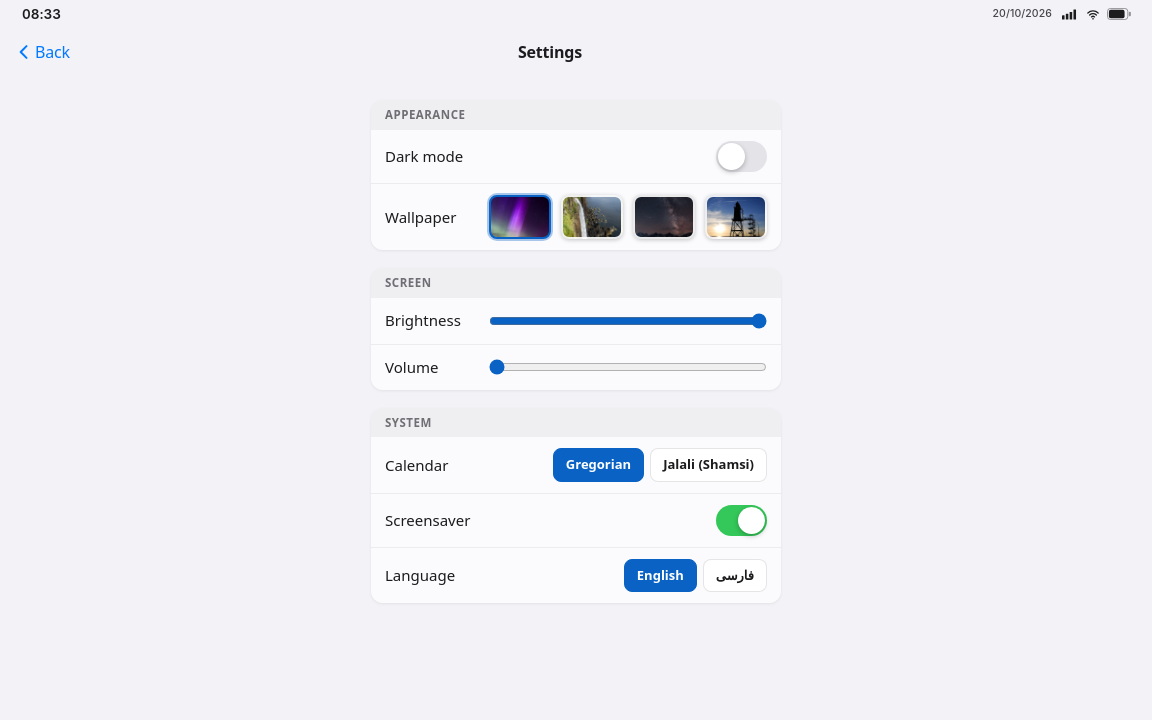
Test case: SettingsApp (mobile) › switches language: text goes RTL, the layout stays put
Click the button with test id "mobile-settings-lang-fa": (735,576) [703,559,767,592]
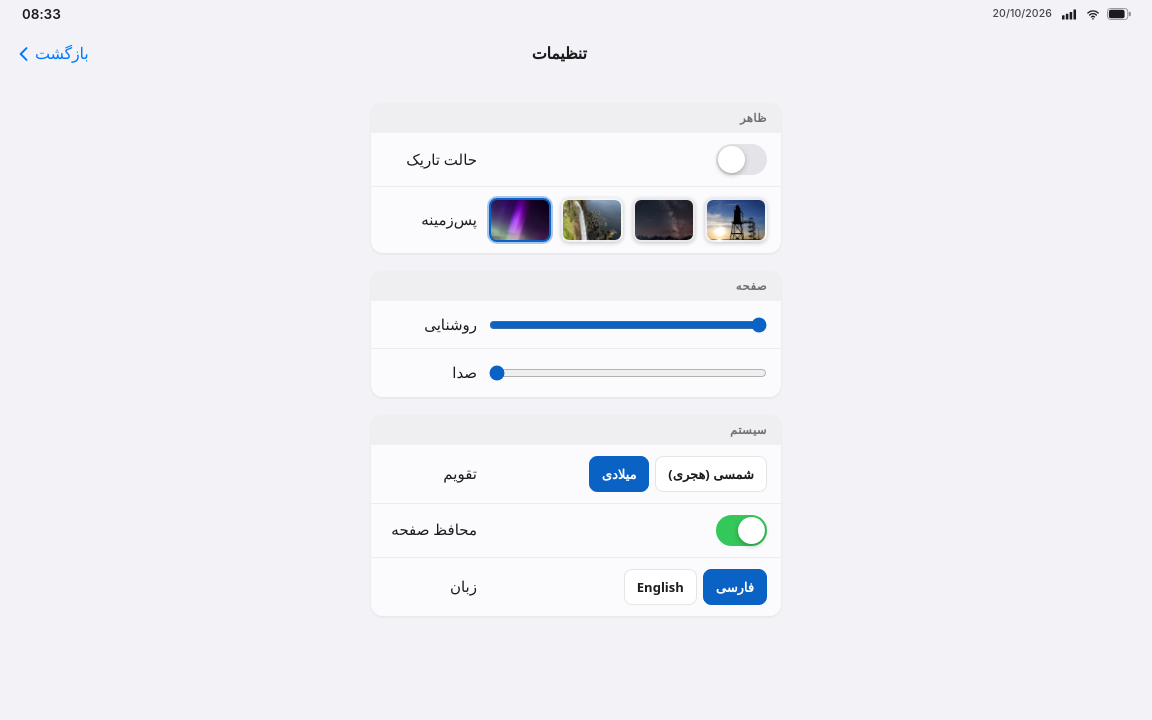
Result: the element with test id "mobile-settings" shows "روشنایی" at [424,314,477,334]
